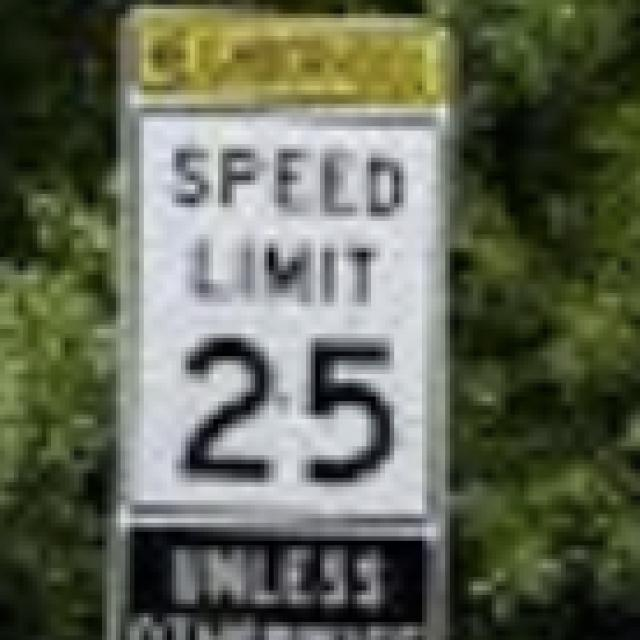speedLimit25: (132, 122, 448, 512)
